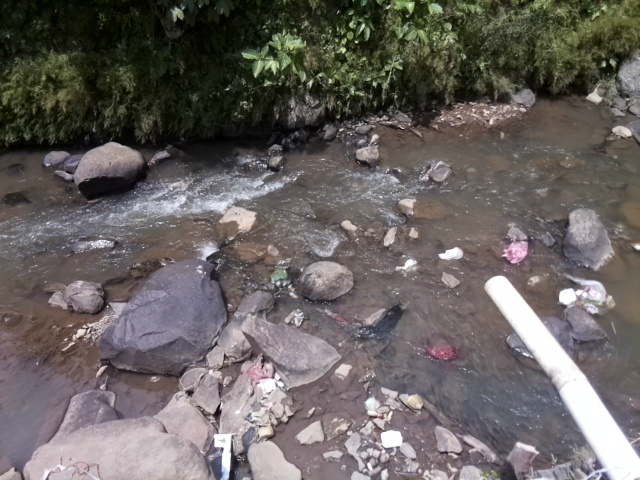Sampah_Plastik: (581, 278, 616, 312), (424, 342, 460, 363), (247, 357, 276, 383), (503, 241, 531, 264)
Sampah_Styrofoam: (379, 430, 405, 448), (557, 286, 577, 306), (437, 247, 465, 260)
